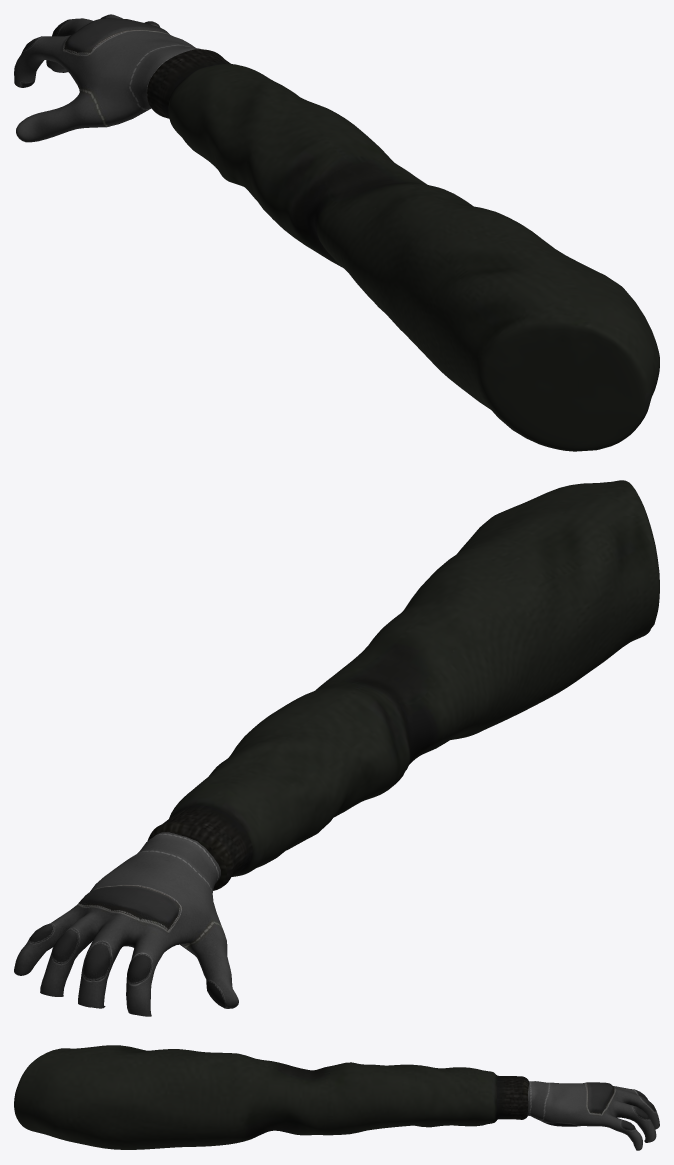
Rendered from fp-hand.glb.
3 renders of one model, top to bottom at view 1: azimuth 30°, elevation 25°; view 2: azimuth 150°, elevation 25°; view 3: azimuth 270°, elevation 25°, orthographic. The views are drawn at different scales.
Visible parts, largest first — view 1: sleeve, glove; view 2: sleeve, glove; view 3: sleeve, glove.
Part boxes in pixels (left/top/right/bottom): sleeve: left=147, top=49, right=659, bottom=451; glove: left=14, top=14, right=200, bottom=142; sleeve: left=147, top=480, right=659, bottom=890; glove: left=14, top=832, right=238, bottom=1016; sleeve: left=14, top=1045, right=529, bottom=1149; glove: left=527, top=1081, right=659, bottom=1150.
Bounding box in the file's own units: 2.08 × 1.59 × 10.43.
2 materials, 2 textured.
